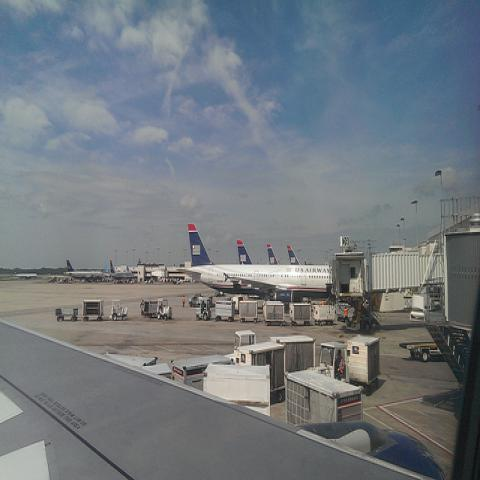truck: (307, 336, 380, 396), (84, 299, 128, 324), (226, 330, 256, 365), (196, 299, 235, 324), (399, 342, 446, 361), (140, 298, 172, 320), (265, 302, 285, 326), (55, 308, 78, 321), (188, 294, 198, 308)
